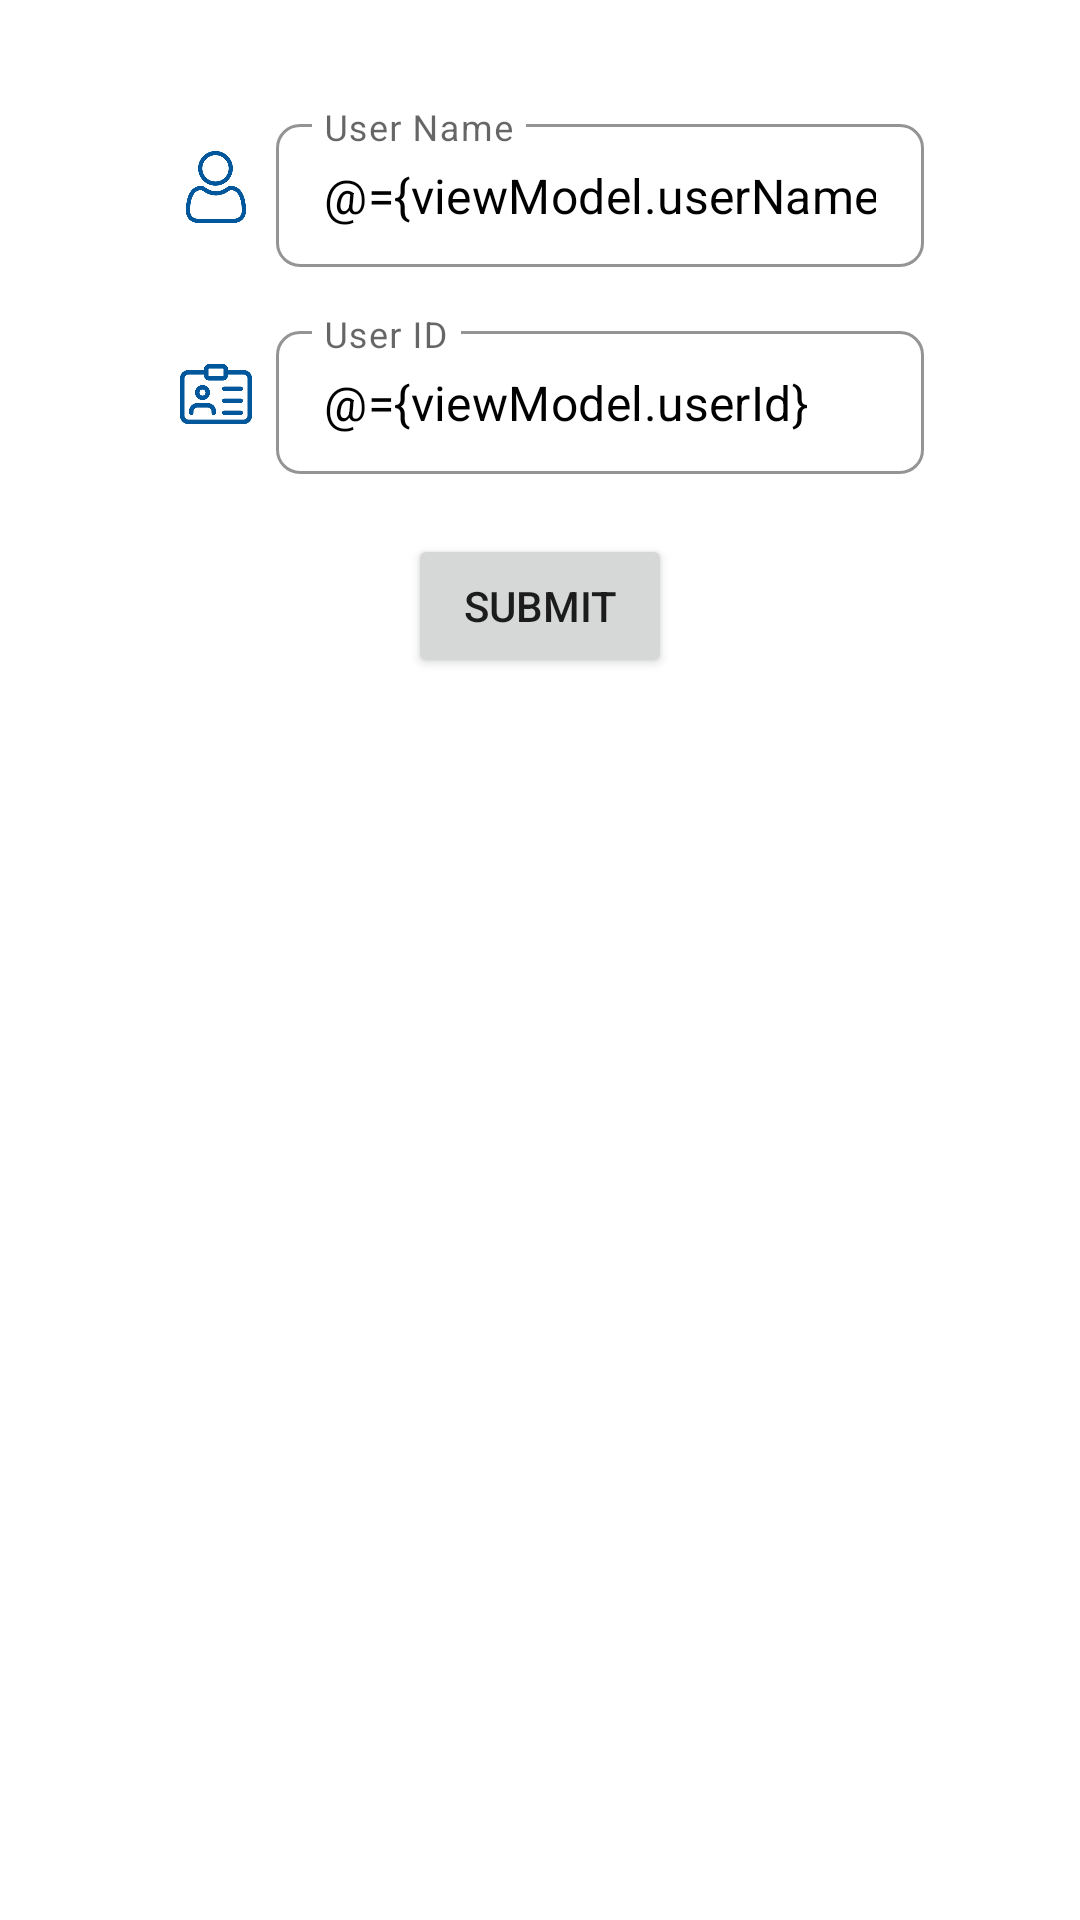

Named icons in this screenshot (1080 x 1920) and their bounding boxes, (x1, y1, x2, y2):
id card: (180, 364, 252, 424)
